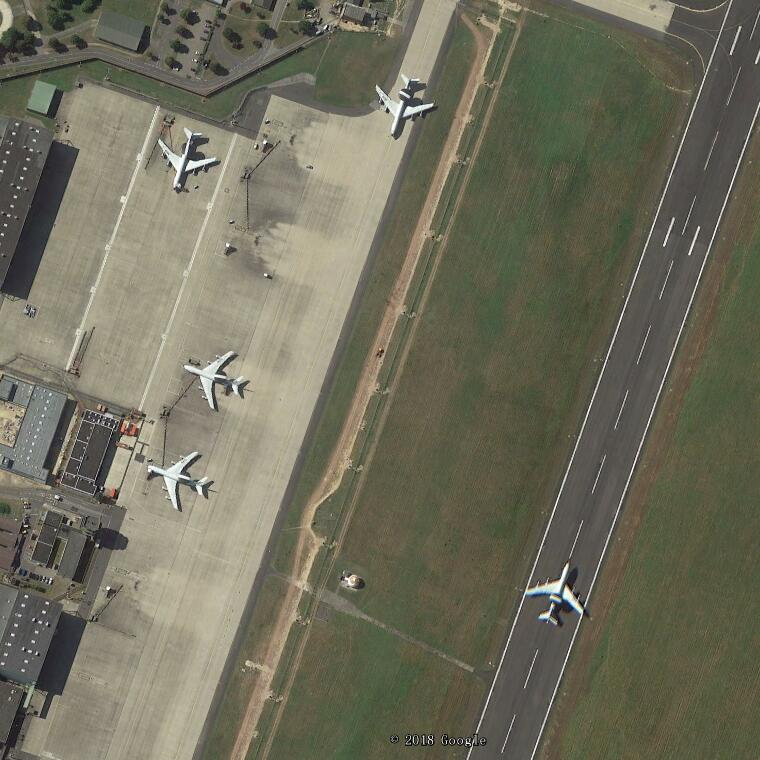A7: (155, 126, 219, 191), (183, 349, 248, 412), (523, 559, 584, 626), (376, 73, 436, 138), (146, 450, 210, 510)
